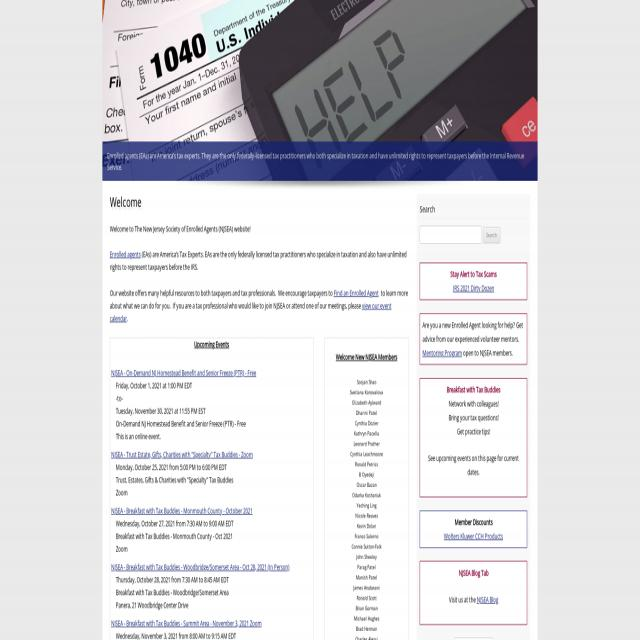button: (102, 0, 538, 182), (483, 229, 500, 245)
field: (420, 228, 482, 245)
